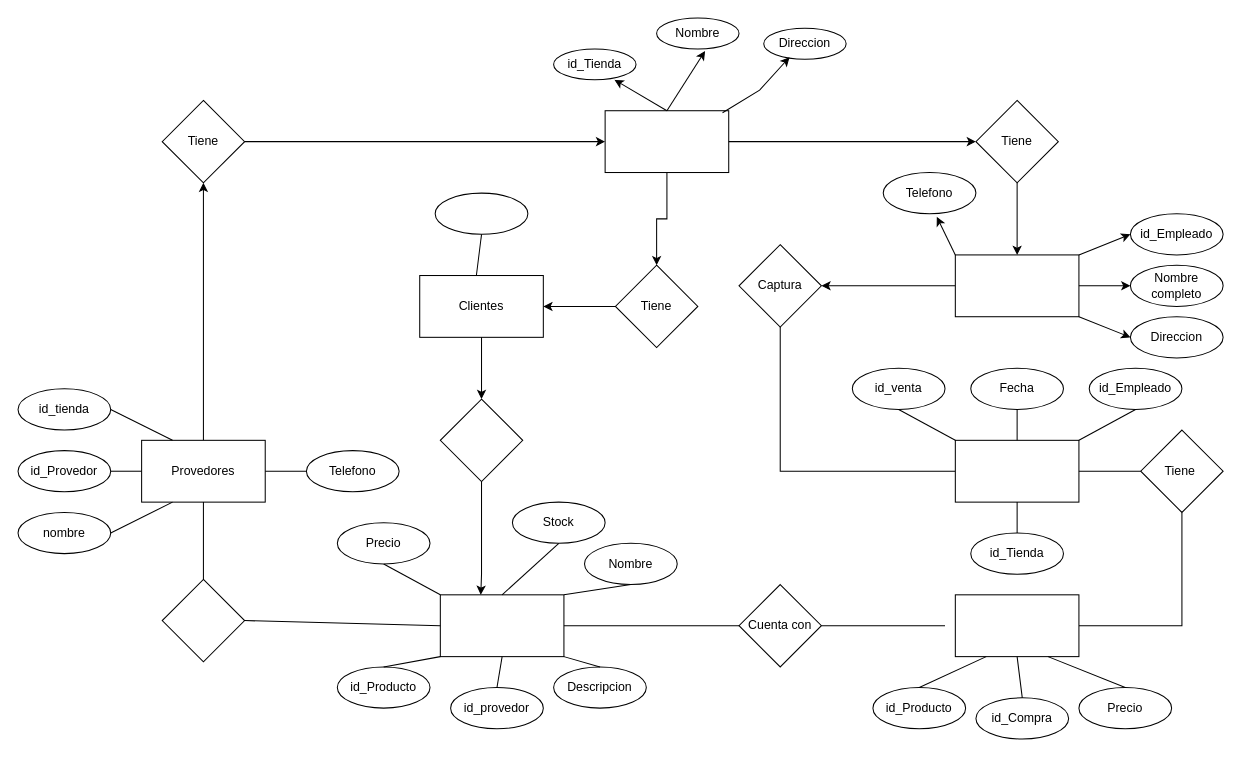
Some shapes in this 1241 by 757 pixel diagram are drawn without their labels. The shapes that lost their labels are listed below. From the top down, each one's box as (x1, y1, x2, y2) in pixels, then its label:
(604, 110, 729, 173): TIENDA
(434, 192, 528, 234): id_cliente
(954, 254, 1079, 317): Empleados
(439, 398, 523, 482): Compran
(954, 439, 1079, 502): Detalle de Venta
(161, 578, 245, 662): Suministran
(439, 594, 564, 657): Productos
(954, 594, 1079, 657): Detalle de compra
